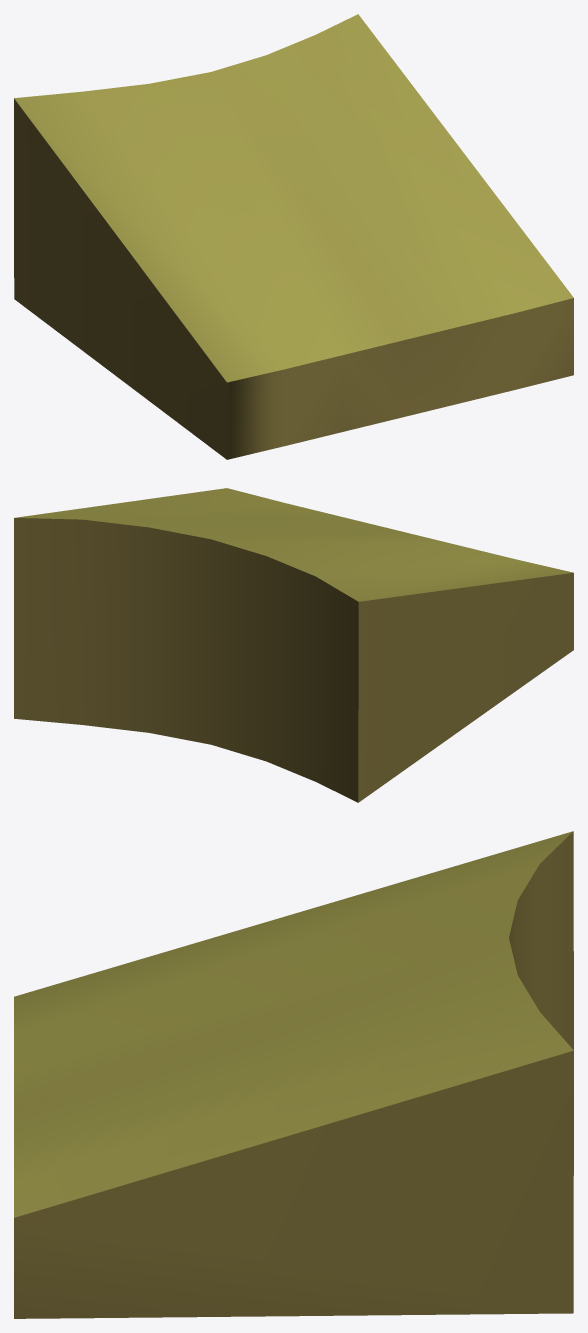
The model's file is human-toys-foam-block_v3.glb.
The picture shows the model from 3 angles, top to bottom: view 1: azimuth 30°, elevation 25°; view 2: azimuth 150°, elevation 25°; view 3: azimuth 270°, elevation 25°; orthographic projection. The views are drawn at different scales.
Parts seen in each view (by area): view 1: Foam Block_v3; view 2: Foam Block_v3; view 3: Foam Block_v3.
Boxes of the visible parts, x1,y1,x2,y2 form: Foam Block_v3: [14, 14, 573, 459]; Foam Block_v3: [14, 488, 573, 802]; Foam Block_v3: [14, 831, 573, 1318].
Bounding box in the file's own units: 0.2804 × 0.1601 × 0.3.
